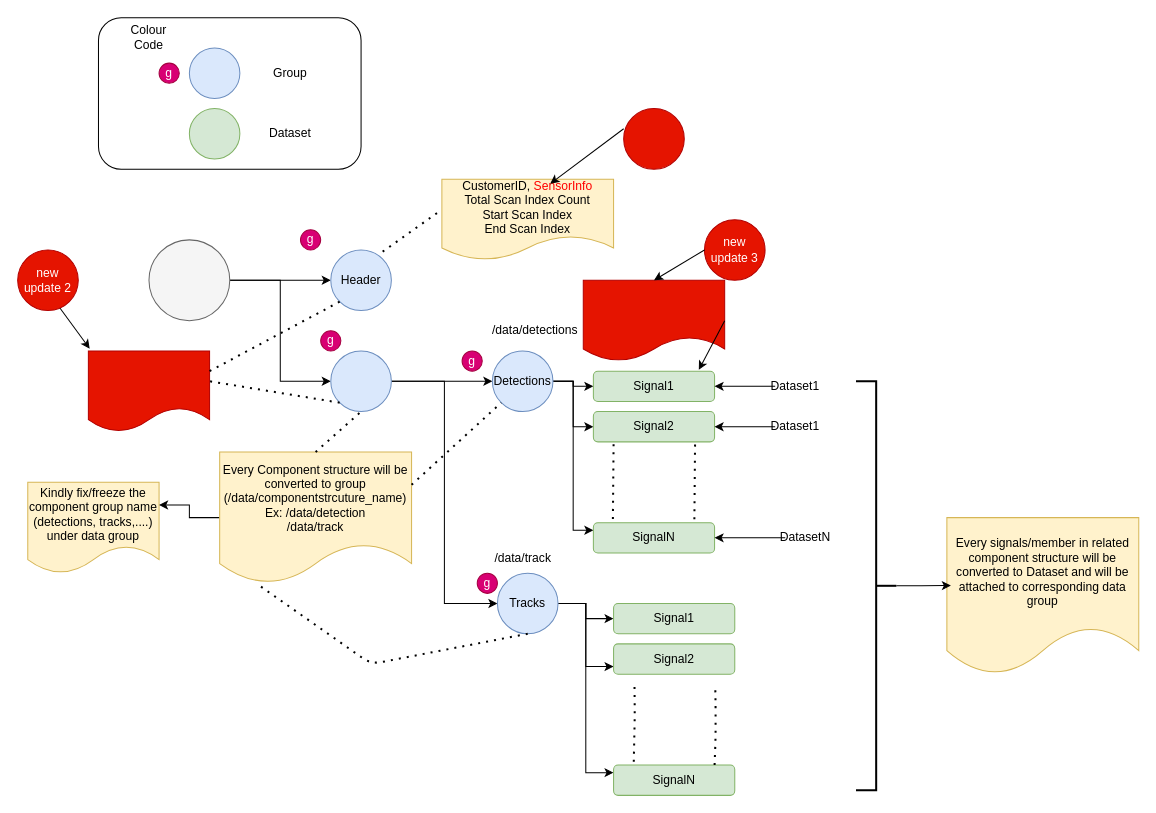
Some shapes in this 1156 by 813 pixel diagram are drawn without their labels. The shapes that lost their labels are listed below. From the top down, each one's centre as x and y in pixels, then its label:
the point at 653,138: new update 1
the point at 189,280: HDF_RL
the point at 653,320: Kindly update Current/Running scan index for signals in datasets
the point at 148,391: Kindly Fix Group name as Header and Data
the point at 360,381: Data
